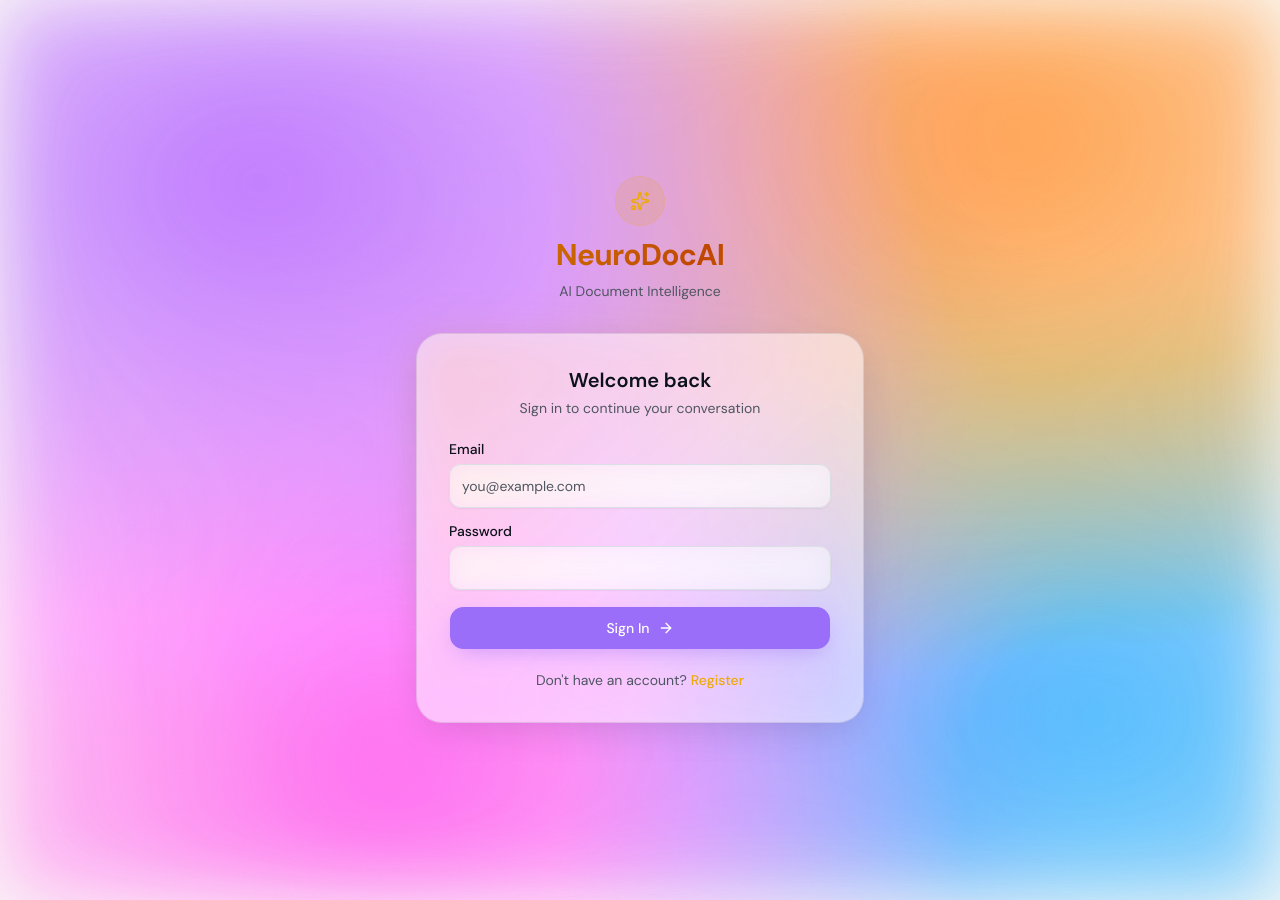
LoginPage › shows error on login failure
Type "test@example.com" into the field labelled "Email" at (640, 486), box x1=449 y1=464 x2=831 y2=508
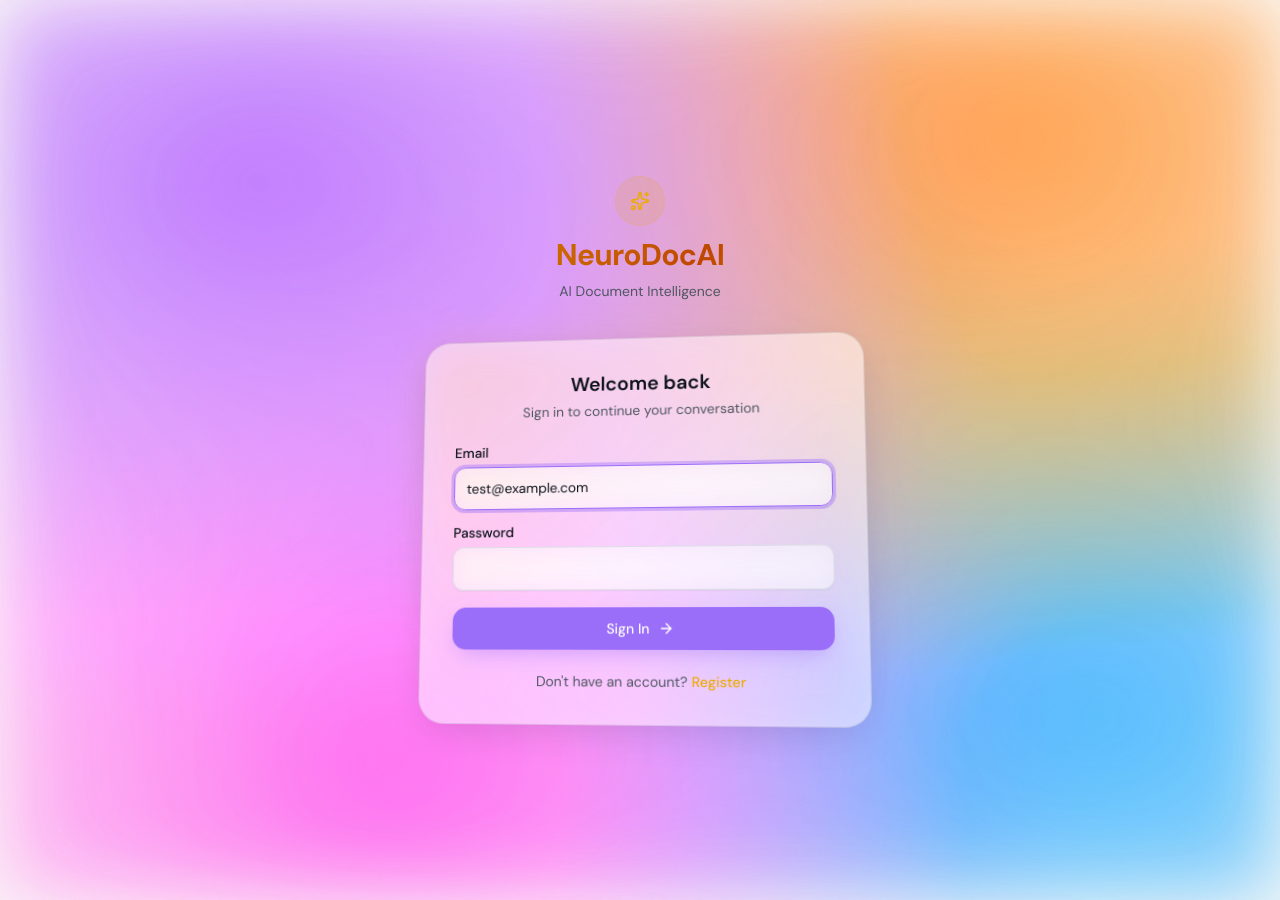
Type "wrong" into the password field labelled "Password" at (644, 568), box x1=452 y1=544 x2=835 y2=591
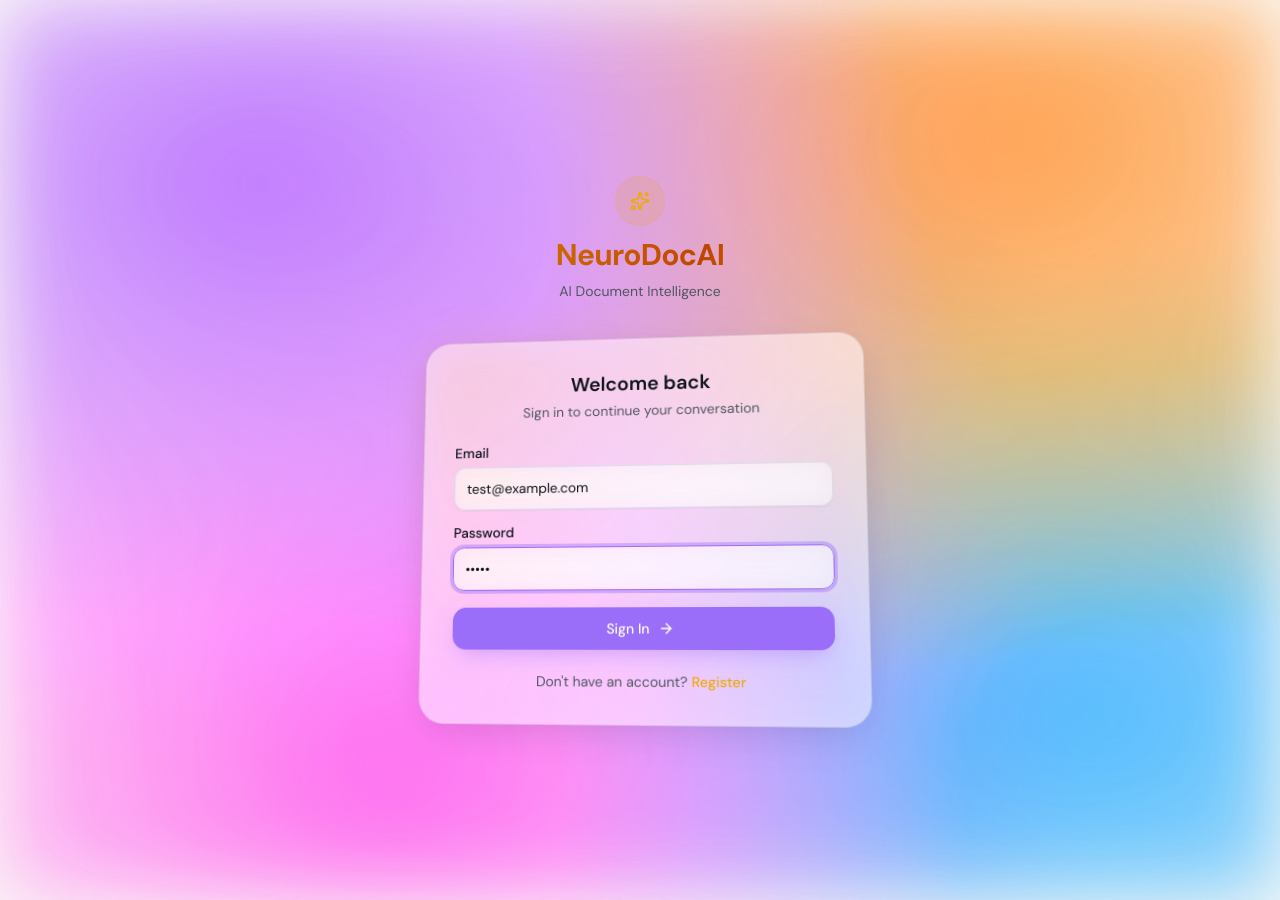
Click the button "Sign In" at (644, 628), box x1=451 y1=606 x2=836 y2=651
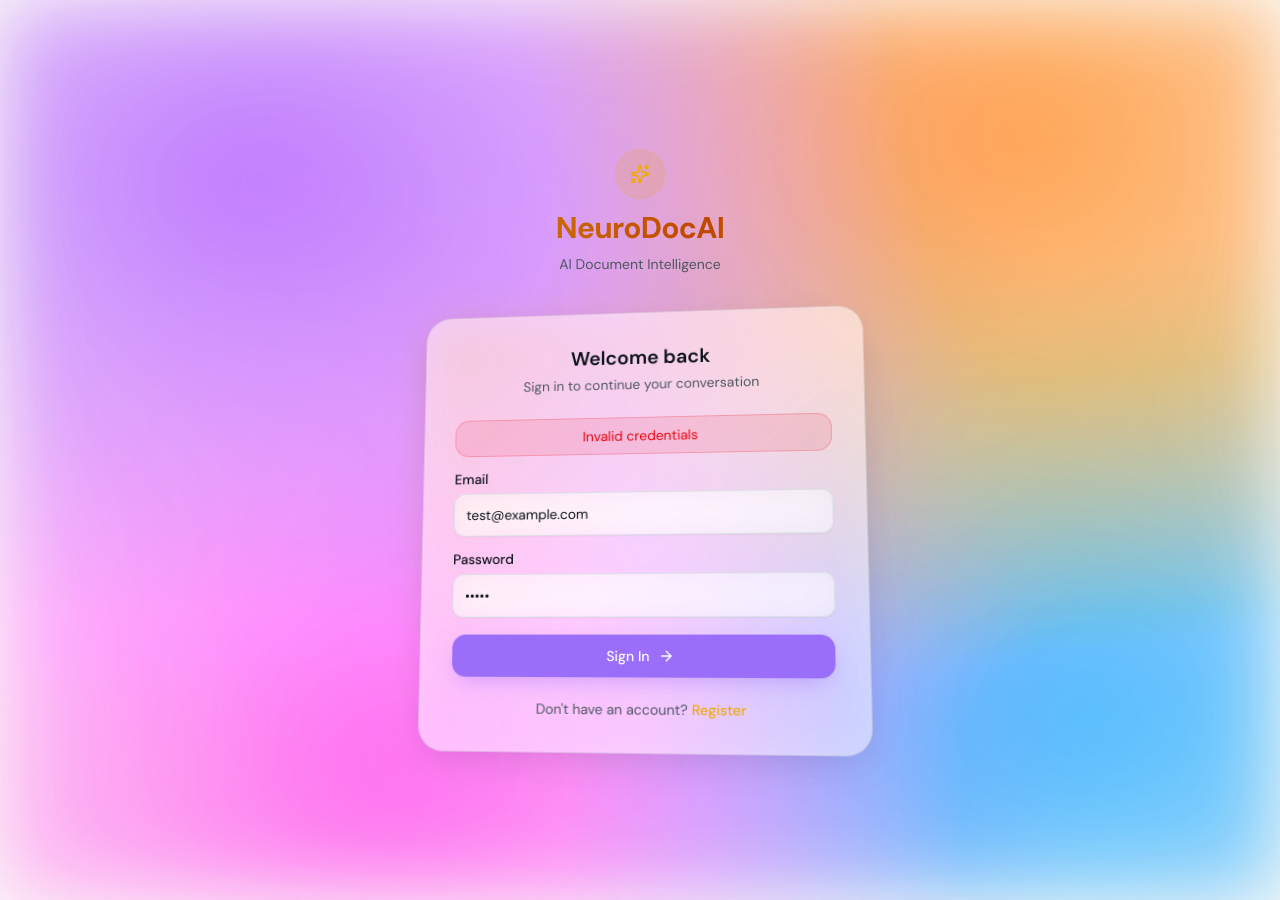
Now the text "Invalid credentials" is shown, box x1=455 y1=413 x2=832 y2=457
